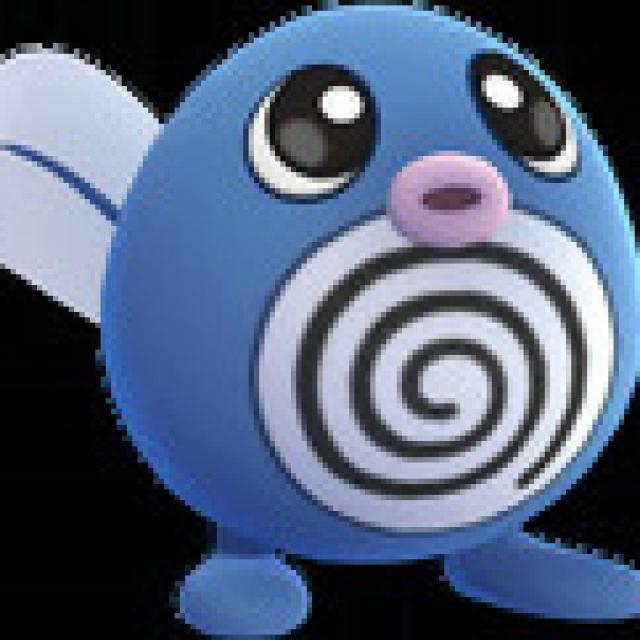Poliwag: (69, 10, 628, 640)
